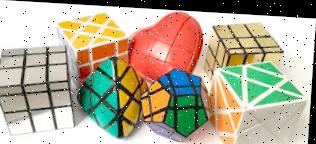cube: (207, 56, 310, 144), (0, 41, 80, 139)
